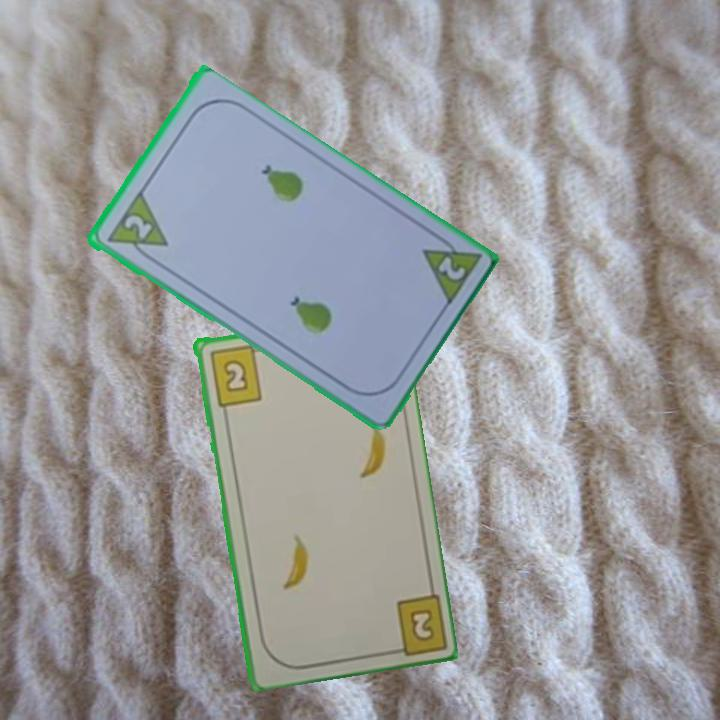2b: (382, 588, 447, 657), (205, 341, 267, 409)
2p: (417, 228, 483, 310), (102, 189, 170, 266)
